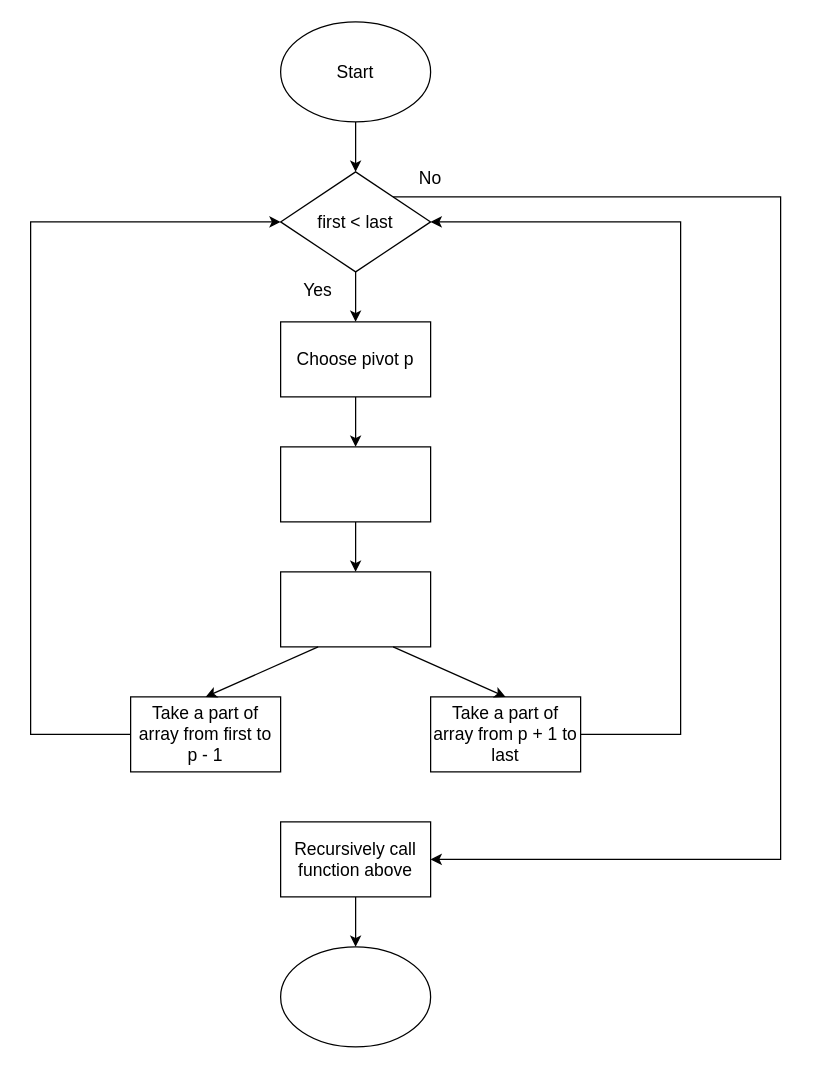
Image size: 813x1069. Some labels were removed from this diagram. Each missing label, with the centre of its shape:
Divide array into two parts: (x=355, y=484)
End: (x=355, y=996)
Make first part < p and remain >= p: (x=355, y=609)
